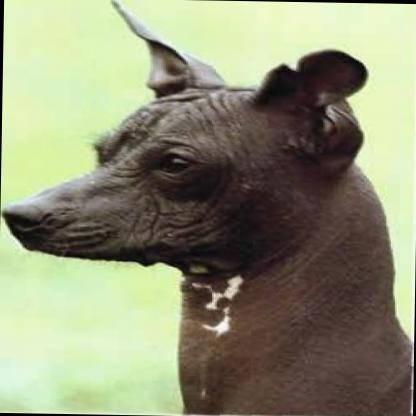Mexican_hairless: (0, 0, 414, 415)
